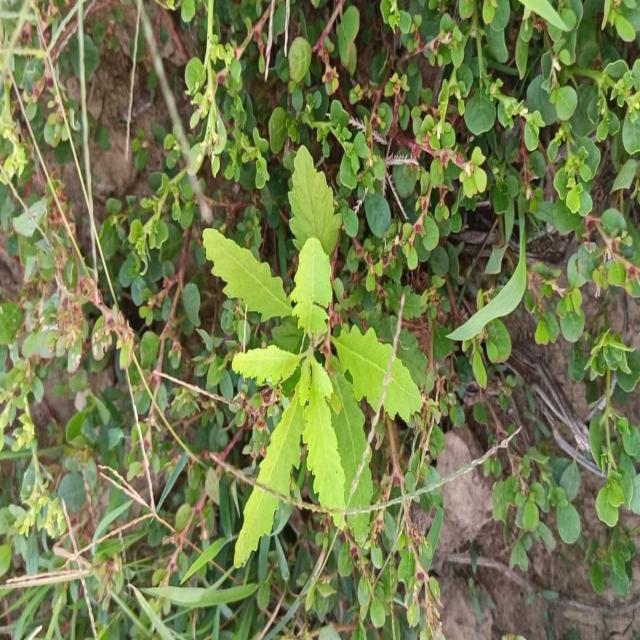weed: (203, 145, 421, 567)
